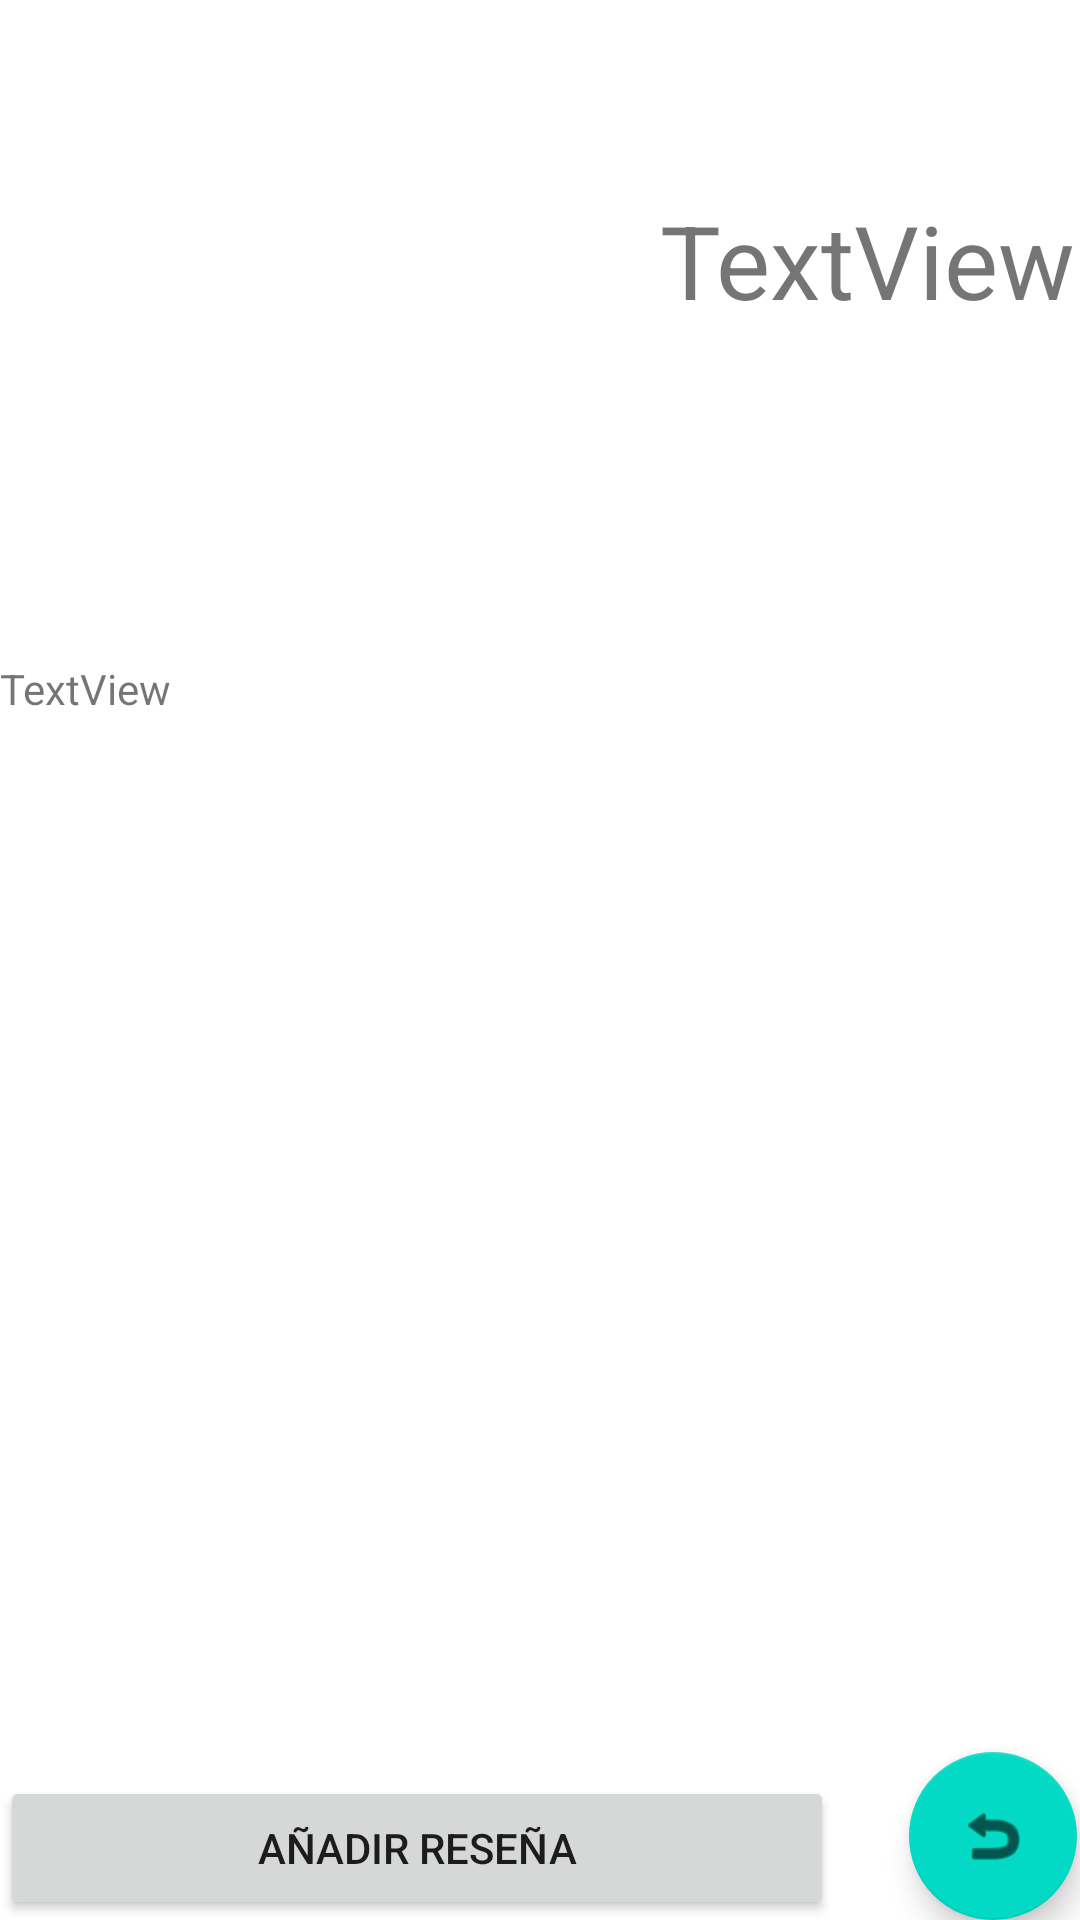

Screen size 1080px×1920px. Icon name, then its box in pixels as (x1, y1, x2, y2):
revert: (909, 1752, 1077, 1920)
